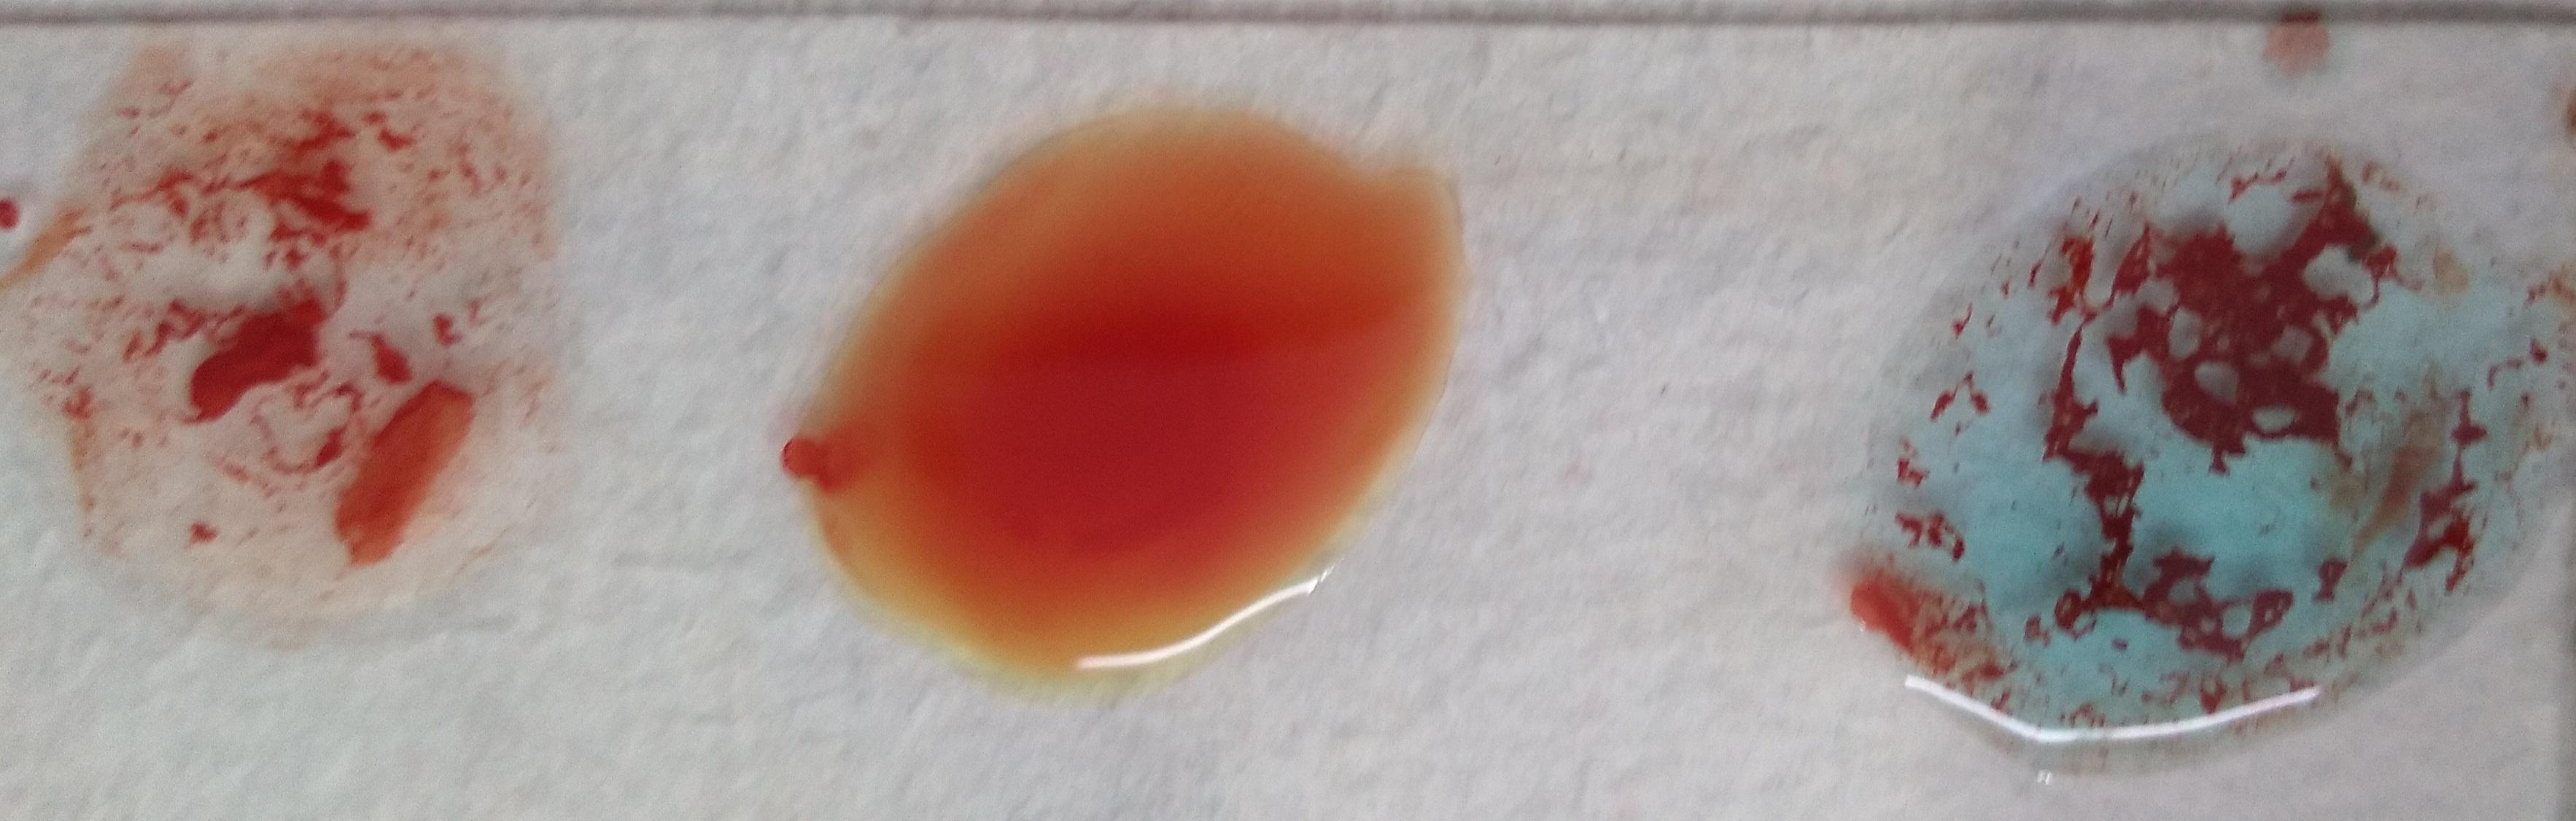A: (1888, 131, 2520, 736)
D: (54, 46, 557, 632)
